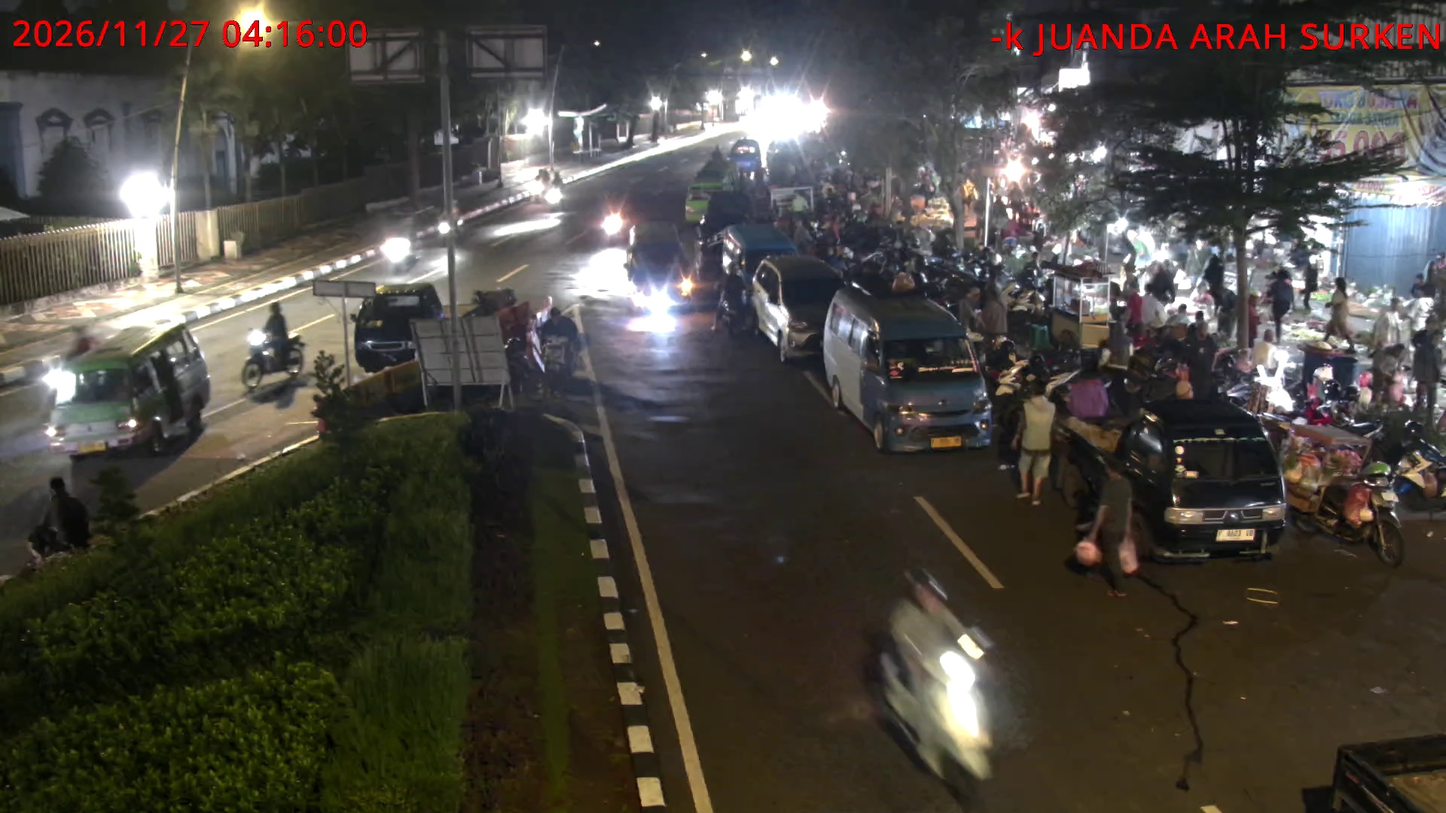Gerobak: (1045, 259, 1116, 354)
